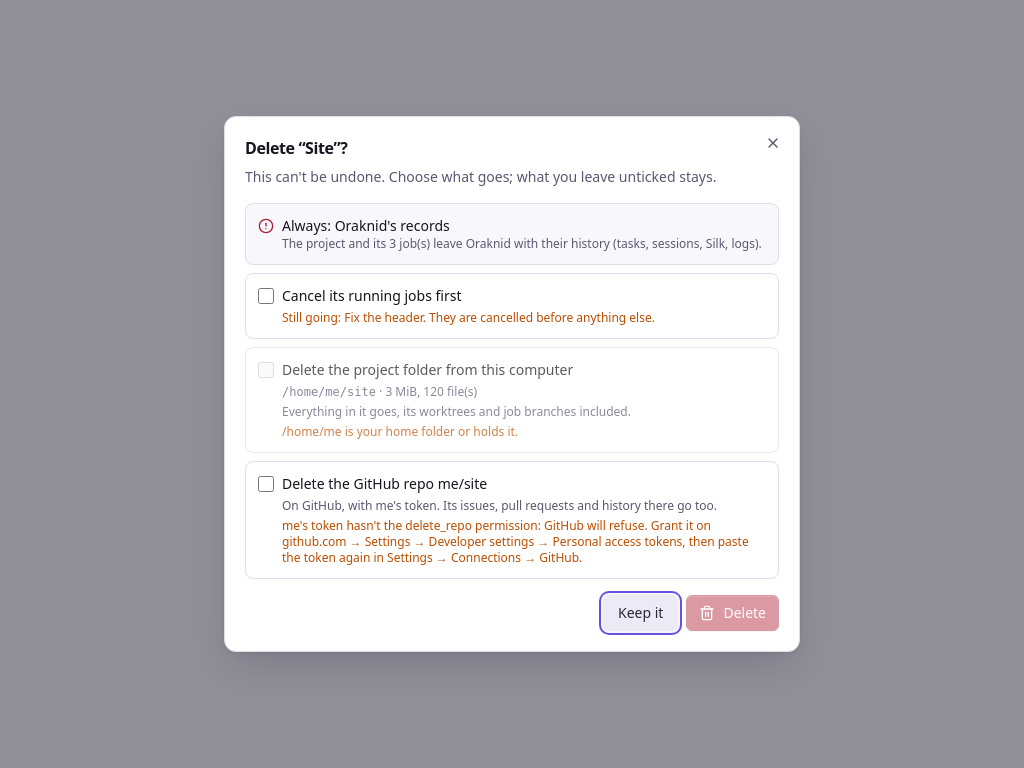
deleting a project › refuses a dangerous folder and offers to cancel a running job
Expected: the checkbox labelled "Delete the project folder from this computer" is disabled, [258,362,274,378]
Expected: the text "/home/me is your home folder or holds it." is shown, [282,423,518,440]
Click the checkbox labelled "Cancel its running jobs first" at (266, 296), box [258,288,274,304]
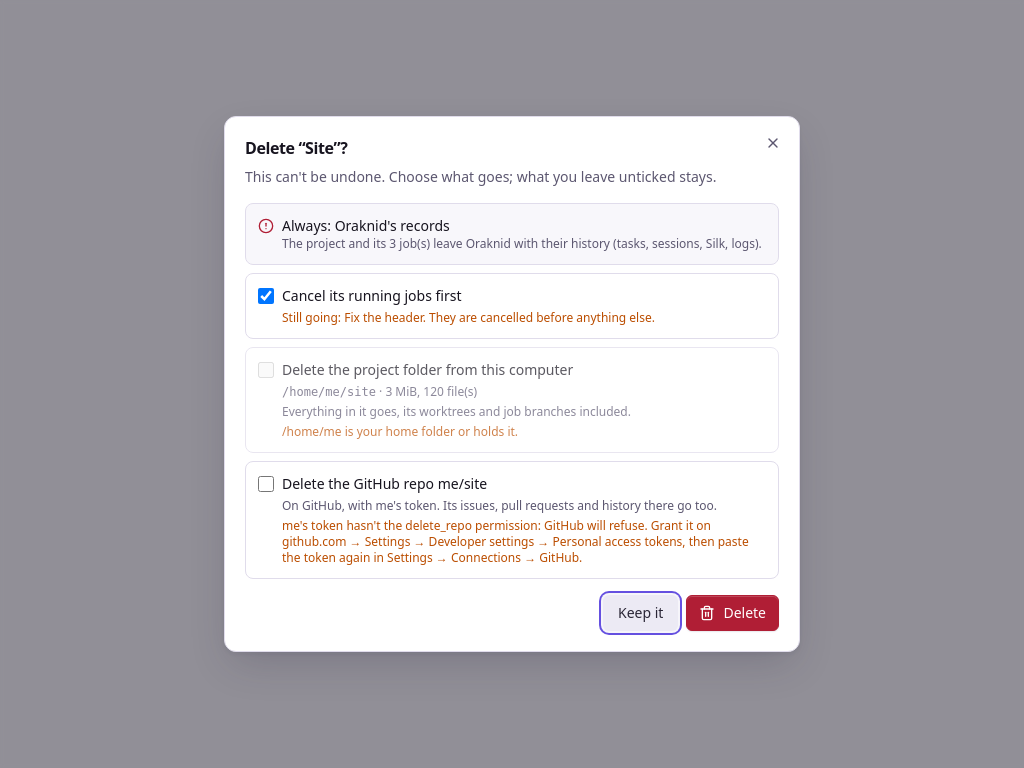
Expected: the button "Delete" is enabled, [686,595,779,631]
